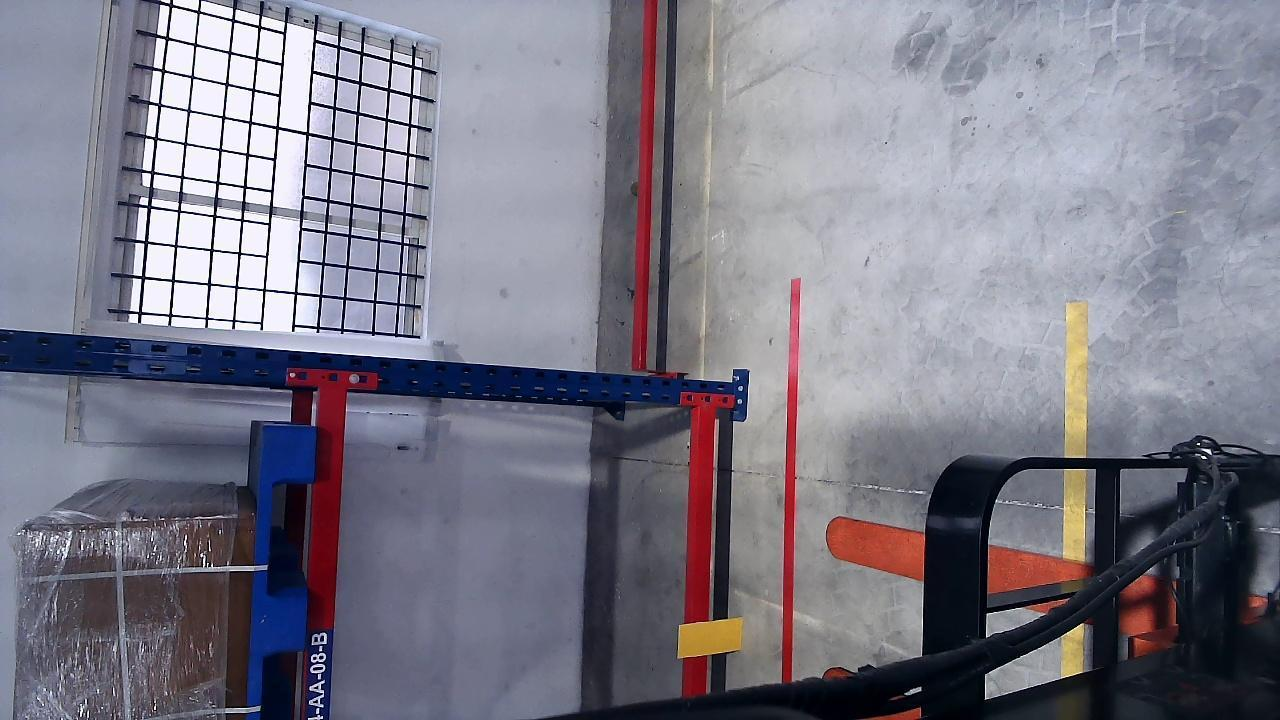red_line: (785, 279, 800, 681)
yellow_line: (1063, 300, 1091, 671)
